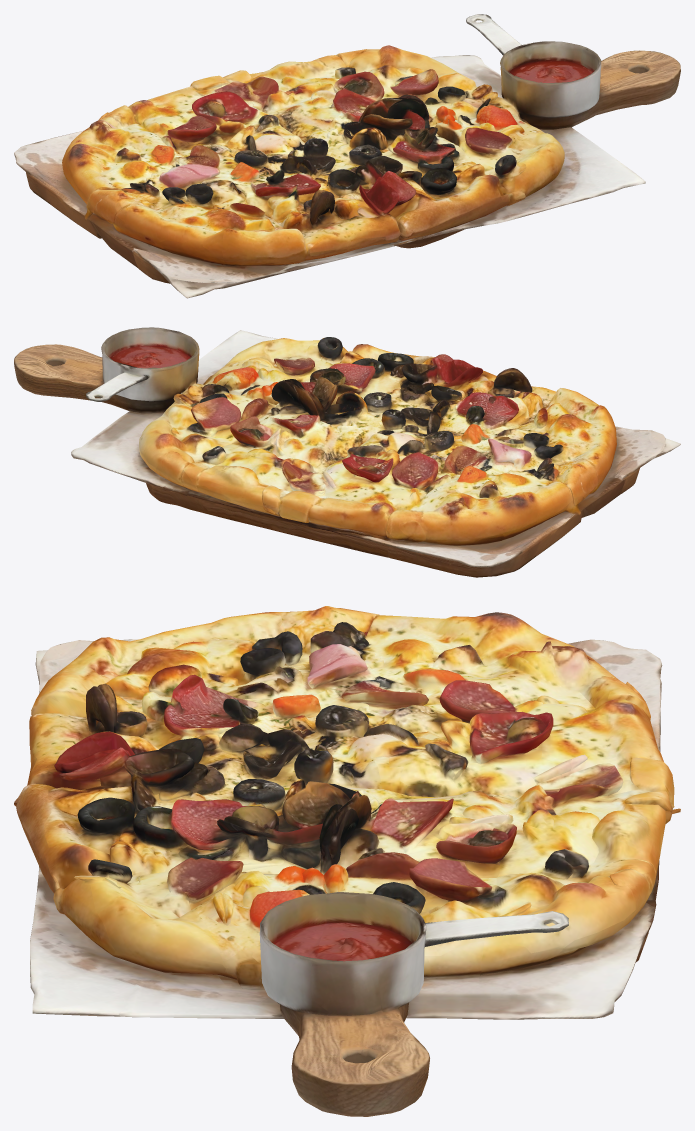
3 views of the same model, one above another, from view 1: azimuth 30°, elevation 25°; view 2: azimuth 150°, elevation 25°; view 3: azimuth 270°, elevation 25° (orthographic). The views are drawn at different scales.
Visible parts, largest first — view 1: mesh; view 2: mesh; view 3: mesh.
Part boxes in pixels (bbox=[...]): mesh: bbox=[14, 14, 680, 298]; mesh: bbox=[14, 327, 680, 577]; mesh: bbox=[14, 606, 680, 1116].
Size of the model in its own units: 0.5 by 0.0583 by 0.2983.
1 material, 1 textured.
